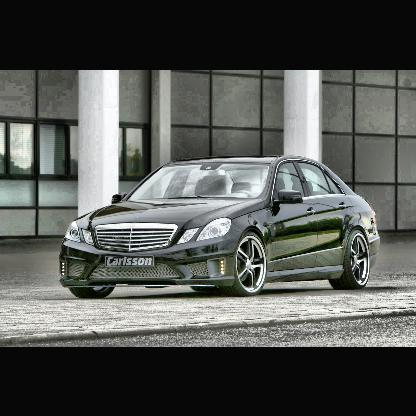Mercedes-Benz E-Class Sedan 2012: (61, 155, 379, 298)
